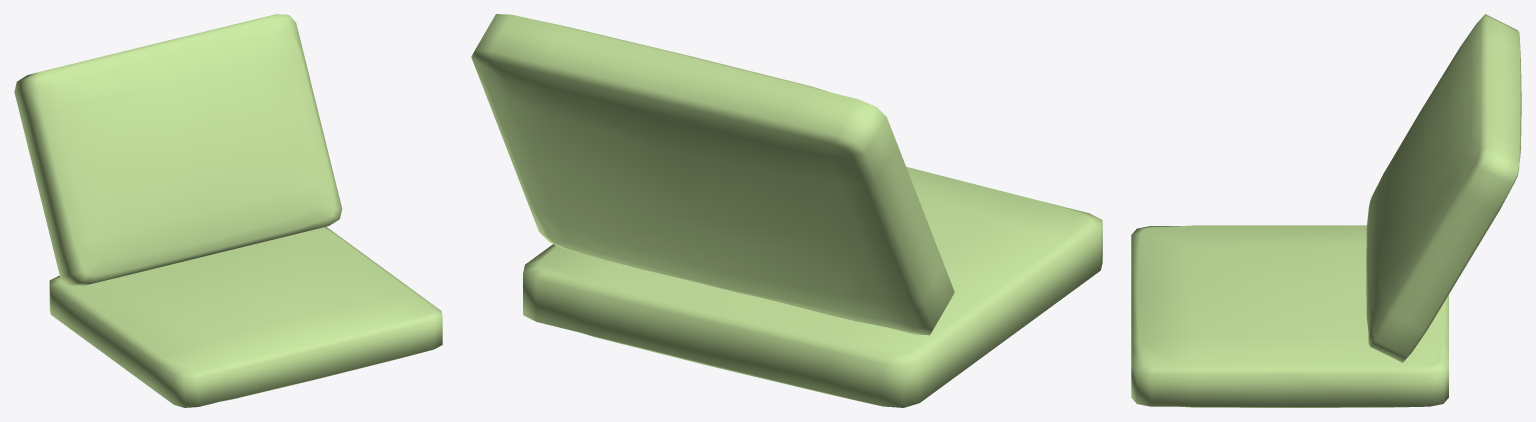
Rendered from SofaPillows.fbx.
3 renders of one model, left to right at view 1: azimuth 30°, elevation 25°; view 2: azimuth 150°, elevation 25°; view 3: azimuth 270°, elevation 25°, orthographic. The views are drawn at different scales.
Visible parts, largest first — view 1: SofaPillows, SofaPillows.001; view 2: SofaPillows, SofaPillows.001; view 3: SofaPillows.001, SofaPillows.
Part boxes in pixels (x1,y1,x2,y2): SofaPillows: (14, 14, 342, 286); SofaPillows.001: (49, 226, 442, 407); SofaPillows: (471, 14, 954, 335); SofaPillows.001: (523, 167, 1102, 407); SofaPillows.001: (1131, 225, 1448, 407); SofaPillows: (1366, 14, 1521, 362).
Size of the model in its own units: 75.75 by 64.36 by 84.32.
